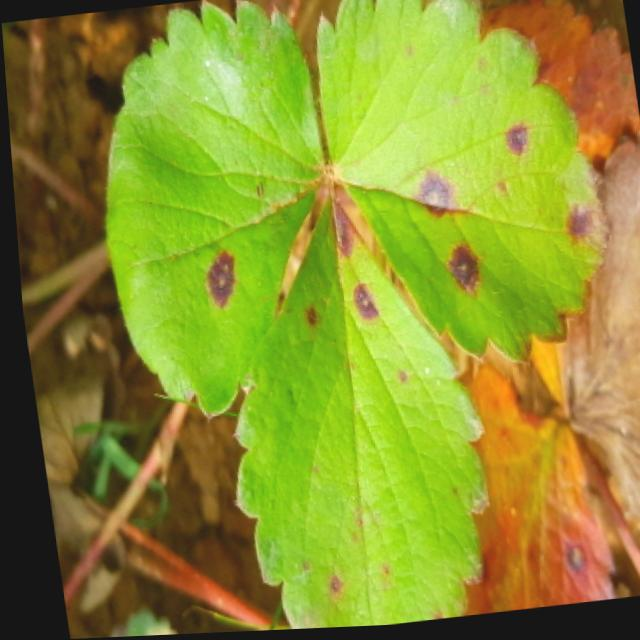Leaf Spot: (224, 181, 483, 632), (312, 0, 604, 370), (99, 0, 321, 420), (436, 337, 605, 619)
